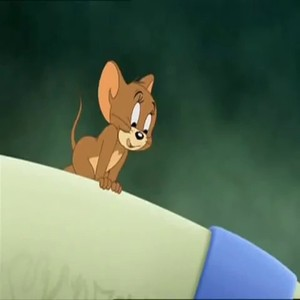Jerry: (67, 58, 159, 192)
